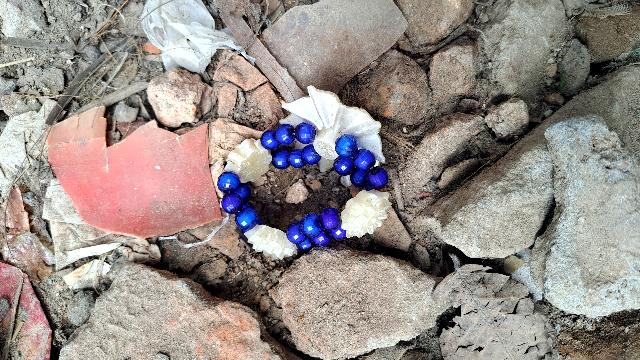hardplastic: (214, 103, 400, 259), (51, 119, 222, 249)
